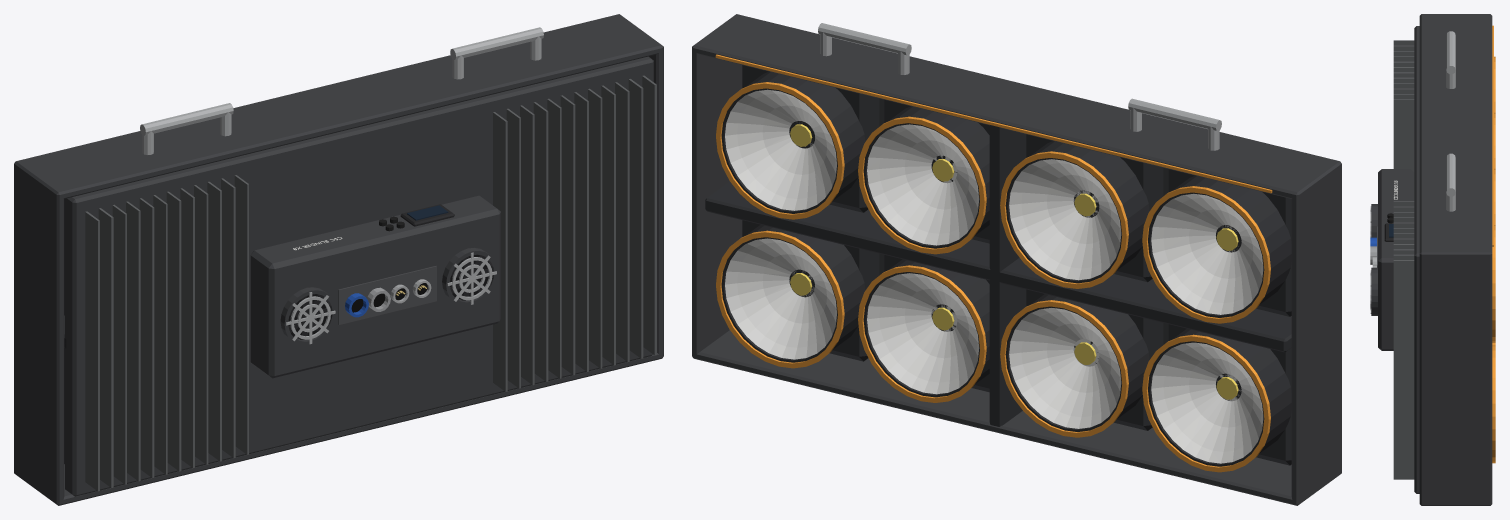
Rendered from csc_blinder_x8_head.obj.
3 renders of one model, left to right at view 1: azimuth 30°, elevation 25°; view 2: azimuth 150°, elevation 25°; view 3: azimuth 270°, elevation 25°, orthographic. The views are drawn at different scales.
Parts seen in each view (by area): view 1: head_csc_3f4043, head_csc_616365, head_csc_adafb1, head_csc_4d4e51, head_csc_272729; view 2: head_csc_e7e7e5, head_csc_3f4043, head_csc_2f3033, head_csc_f9a238, head_csc_adafb1, head_csc_edd461; view 3: head_csc_3f4043, head_csc_616365, head_csc_f9a238, head_csc_adafb1.
Boxes of the visible parts, <box> form: head_csc_3f4043: <box>14,14,663,505</box>; head_csc_616365: <box>85,75,656,491</box>; head_csc_adafb1: <box>140,27,543,344</box>; head_csc_4d4e51: <box>338,266,436,324</box>; head_csc_272729: <box>288,204,488,339</box>; head_csc_e7e7e5: <box>725,89,1263,463</box>; head_csc_3f4043: <box>692,14,1341,505</box>; head_csc_2f3033: <box>705,65,1291,466</box>; head_csc_f9a238: <box>715,54,1272,472</box>; head_csc_adafb1: <box>818,23,1221,150</box>; head_csc_edd461: <box>790,124,1238,399</box>; head_csc_3f4043: <box>1371,14,1492,505</box>; head_csc_616365: <box>1393,40,1414,479</box>; head_csc_f9a238: <box>1492,25,1495,463</box>; head_csc_adafb1: <box>1370,31,1455,313</box>.
Size of the model in its own units: 2.07 by 1.11 by 0.4576.
